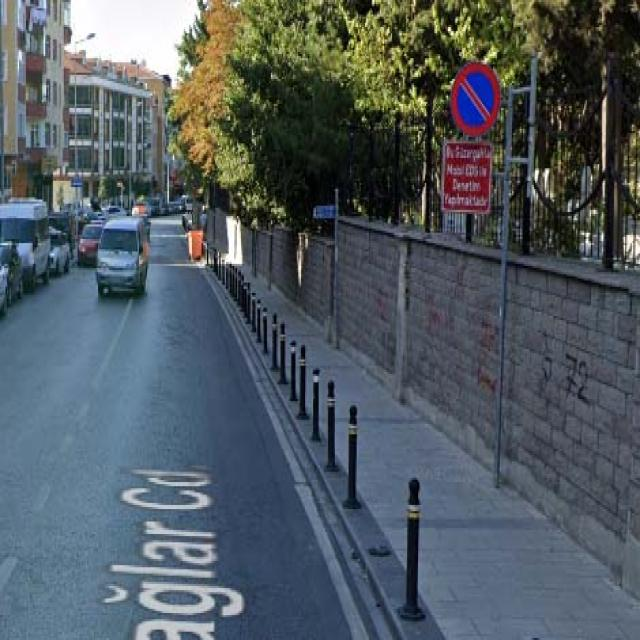parkyasak: (451, 64, 498, 135)
